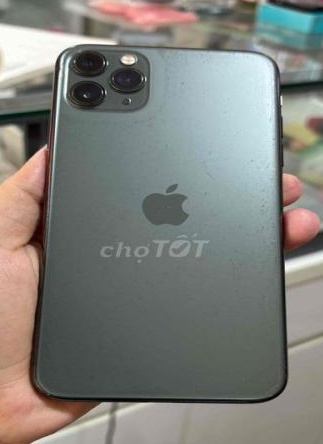scratch: (256, 139, 290, 397), (146, 38, 184, 137), (228, 194, 251, 316), (56, 109, 171, 131), (182, 43, 269, 67), (199, 146, 217, 197), (132, 294, 146, 307)
